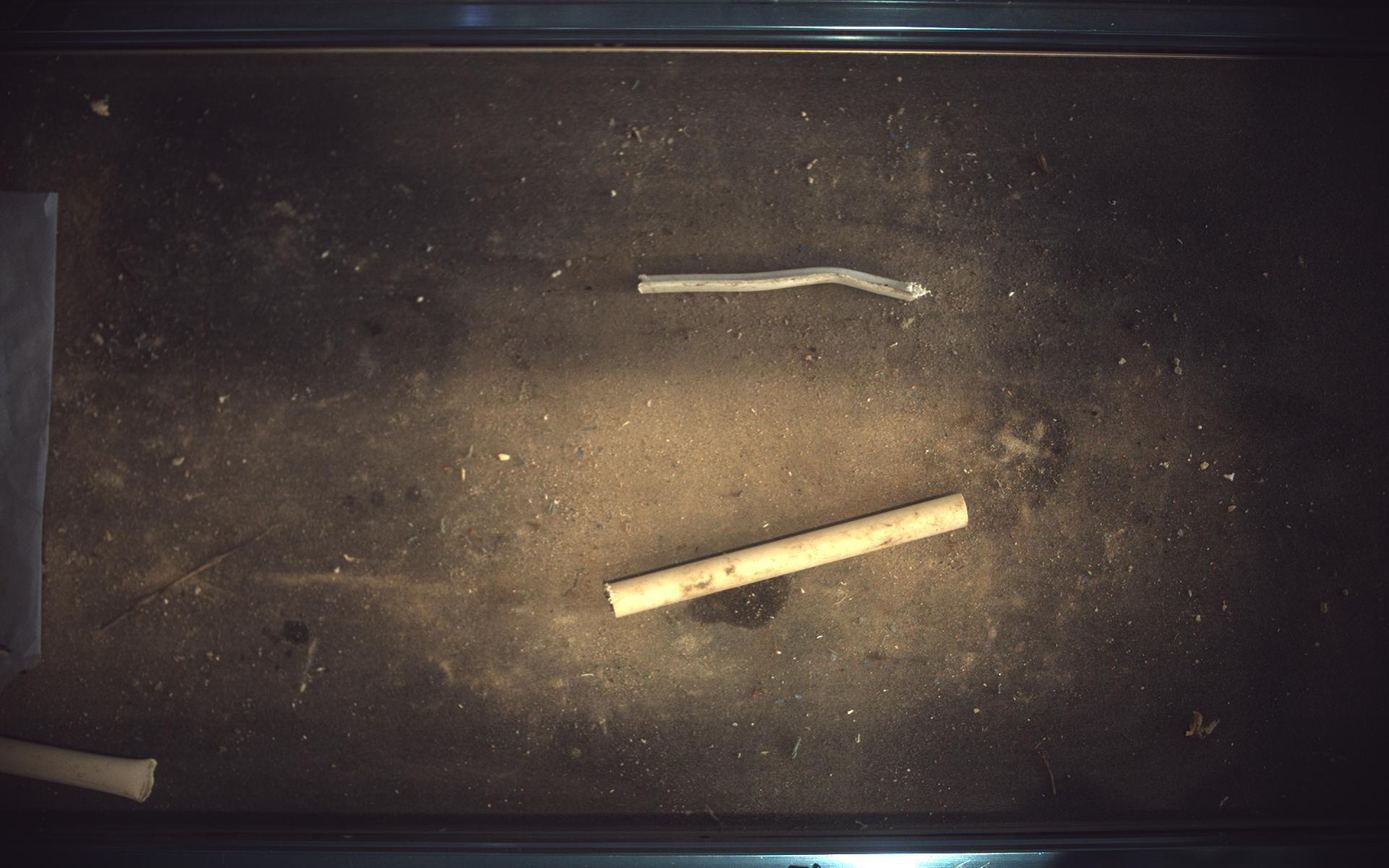pipes: (606, 493, 970, 618), (1, 739, 156, 803)
plastic: (639, 266, 930, 301)
